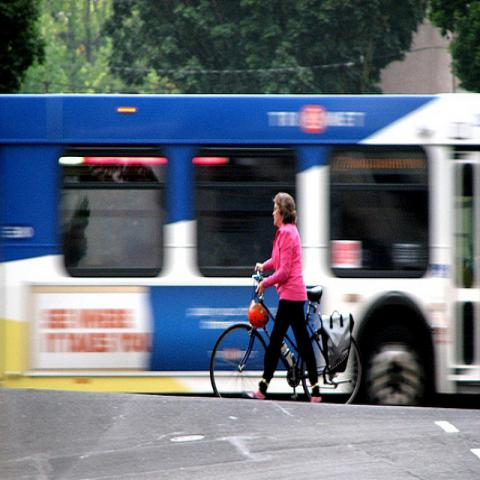bus: (0, 93, 479, 405)
